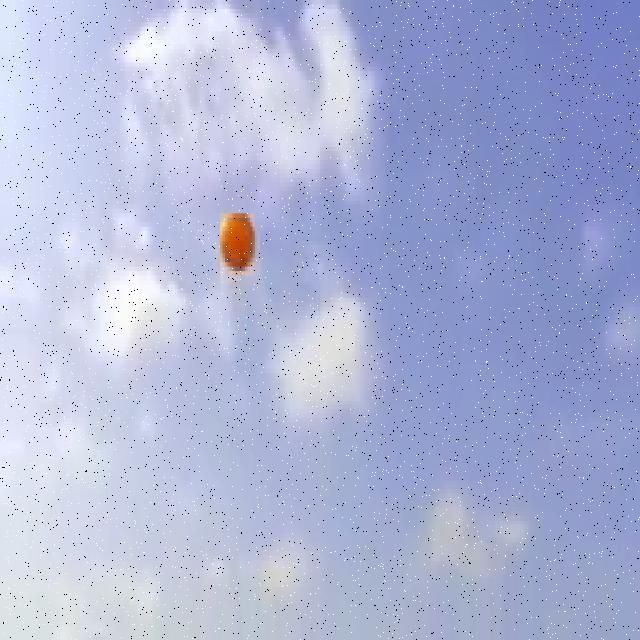red: (218, 211, 255, 271)
